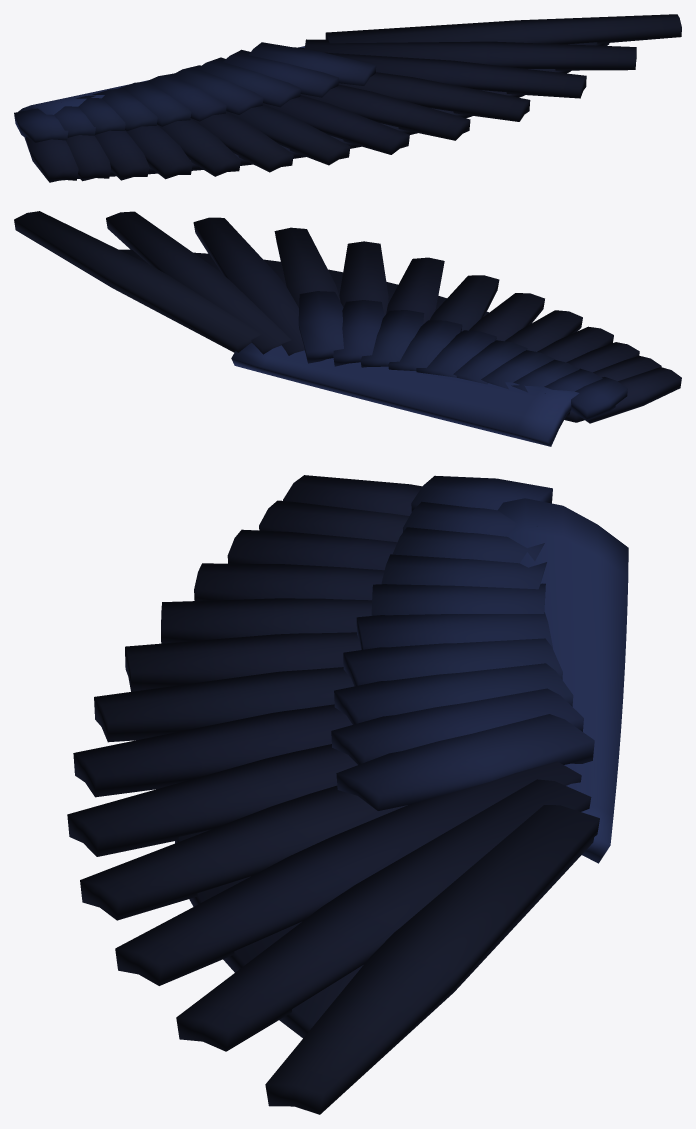
The model's file is Tsubame_Wing.fbx.
3 renders of one model, top to bottom at view 1: azimuth 30°, elevation 25°; view 2: azimuth 150°, elevation 25°; view 3: azimuth 270°, elevation 25°, orthographic. The views are drawn at different scales.
Parts seen in each view (by area): view 1: Tsubame_Wing; view 2: Tsubame_Wing; view 3: Tsubame_Wing.
Boxes of the visible parts, bbox=[...] form: Tsubame_Wing: bbox=[14, 14, 681, 182]; Tsubame_Wing: bbox=[14, 211, 681, 446]; Tsubame_Wing: bbox=[67, 475, 628, 1114].
Bounding box in the file's own units: 5.21 × 0.2609 × 1.99.
